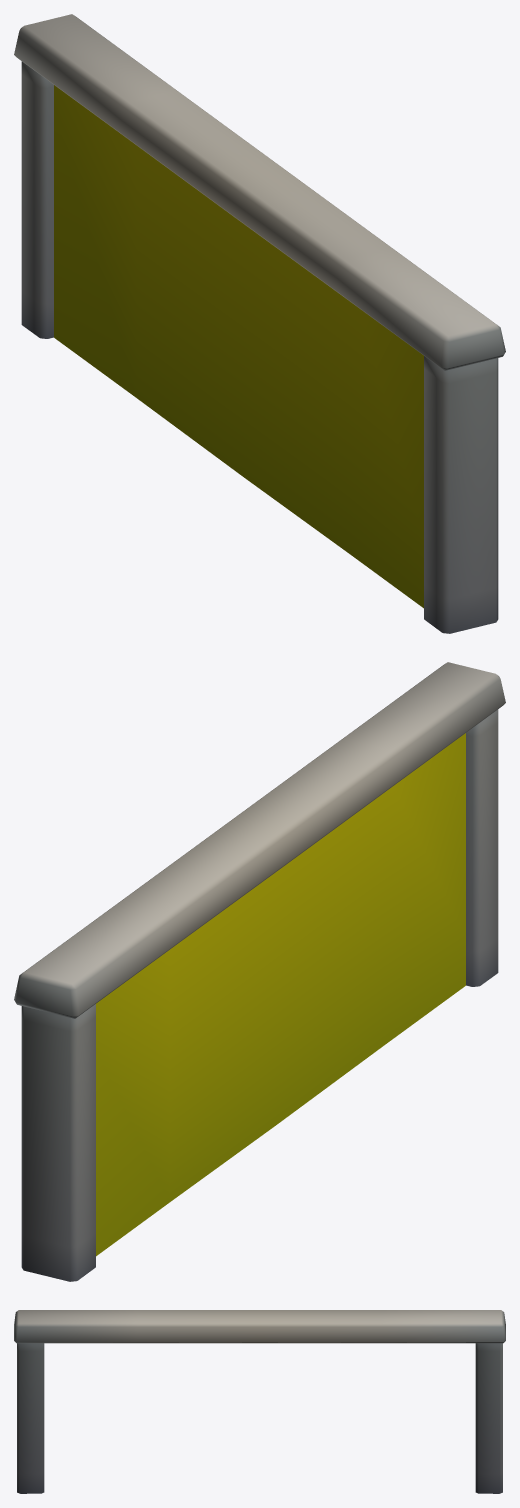
File: StoneWall.glb
3 renders of one model, top to bottom at view 1: azimuth 30°, elevation 25°; view 2: azimuth 150°, elevation 25°; view 3: azimuth 270°, elevation 25°, orthographic. The views are drawn at different scales.
Parts seen in each view (by area): view 1: StoneWall; view 2: StoneWall; view 3: StoneWall.
Boxes of the visible parts, left/top/right/bottom form: StoneWall: left=14, top=14, right=505, bottom=633; StoneWall: left=14, top=662, right=505, bottom=1281; StoneWall: left=14, top=1310, right=505, bottom=1493.
Size of the model in its own units: 0.7885 by 3.47 by 9.12.
Materials: 2 (1 with a texture image).
